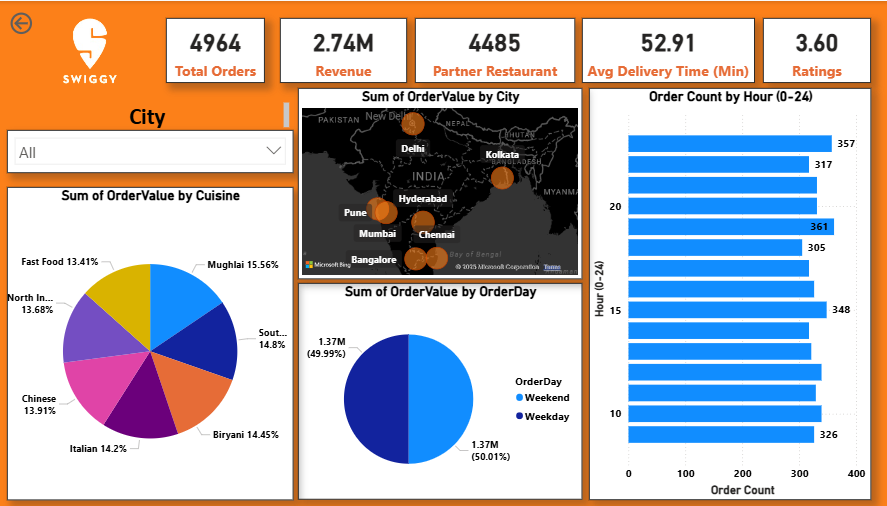

The dashboard page shown, as its layout file describes it:
{"tool":"powerbi","page":{"name":"Swiggy","canvas":[1280,720],"ordinal":1},"visuals":[{"type":"slicer","fields":{"Values":["swiggy_vs_zomato_dummy_data.City"]},"box":[12.1,183.2,405.8,60.6],"z":0},{"type":"image","box":[62.2,1.4,137.9,137.9],"z":1000},{"type":"card","fields":{"Values":["CountNonNull(swiggy_vs_zomato_dummy_data.Platform)"]},"box":[238.1,24.1,140.3,92.1],"z":2000},{"type":"card","fields":{"Values":["Sum(swiggy_vs_zomato_dummy_data.OrderValue)"]},"box":[399.7,24.1,180,92.1],"z":3000},{"type":"card","fields":{"Values":["Count(swiggy_vs_zomato_dummy_data.Restaurant)"]},"box":[591,24.1,226.8,92.1],"z":4000},{"type":"card","fields":{"Values":["Avg(swiggy_vs_zomato_dummy_data.DeliveryTime)"]},"box":[827.7,24.1,245.2,92.1],"z":5000},{"type":"card","fields":{"Values":["Avg(swiggy_vs_zomato_dummy_data.CustomerRating)"]},"box":[1084.3,24.1,153.1,92.1],"z":6000},{"type":"textbox","box":[12.8,138.9,405.4,46.8],"z":7000},{"type":"pieChart","fields":{"Category":["swiggy_vs_zomato_dummy_data.OrderDay"],"Y":["Sum(swiggy_vs_zomato_dummy_data.OrderValue)"]},"box":[425.6,400,402.8,307.2],"z":8000},{"type":"barChart","fields":{"Category":["swiggy_vs_zomato_dummy_data.OrderHour"],"Y":["CountNonNull(swiggy_vs_zomato_dummy_data.OrderDay)"]},"box":[837.4,122.7,399.8,584.5],"z":9000},{"type":"pieChart","fields":{"Y":["Sum(swiggy_vs_zomato_dummy_data.OrderValue)"],"Category":["swiggy_vs_zomato_dummy_data.Cuisine"]},"box":[12.1,263.5,405.8,443.7],"z":10000},{"type":"map","fields":{"Category":["swiggy_vs_zomato_dummy_data.City"],"Size":["Sum(swiggy_vs_zomato_dummy_data.OrderValue)"]},"box":[425,122.8,402.8,271.1],"z":11000},{"type":"actionButton","box":[12.2,10.8,100,40.6],"z":12000}]}

Visuals, with their boxes in screenshot pixels (x1, y1, x2, y2), scaled from the page's 1280x720 canvas onto the 887x506 screenshot:
slicer - swiggy_vs_zomato_dummy_data.City: BBox(8, 129, 290, 171)
image: BBox(43, 1, 139, 98)
card - CountNonNull(swiggy_vs_zomato_dummy_data.Platform): BBox(165, 17, 262, 82)
card - Sum(swiggy_vs_zomato_dummy_data.OrderValue): BBox(277, 17, 402, 82)
card - Count(swiggy_vs_zomato_dummy_data.Restaurant): BBox(410, 17, 567, 82)
card - Avg(swiggy_vs_zomato_dummy_data.DeliveryTime): BBox(574, 17, 743, 82)
card - Avg(swiggy_vs_zomato_dummy_data.CustomerRating): BBox(751, 17, 857, 82)
textbox: BBox(9, 98, 290, 131)
pieChart - swiggy_vs_zomato_dummy_data.OrderDay x Sum(swiggy_vs_zomato_dummy_data.OrderValue): BBox(295, 281, 574, 497)
barChart - swiggy_vs_zomato_dummy_data.OrderHour x CountNonNull(swiggy_vs_zomato_dummy_data.OrderDay): BBox(580, 86, 857, 497)
pieChart - Sum(swiggy_vs_zomato_dummy_data.OrderValue) x swiggy_vs_zomato_dummy_data.Cuisine: BBox(8, 185, 290, 497)
map - swiggy_vs_zomato_dummy_data.City x Sum(swiggy_vs_zomato_dummy_data.OrderValue): BBox(295, 86, 574, 277)
actionButton: BBox(8, 8, 78, 36)
